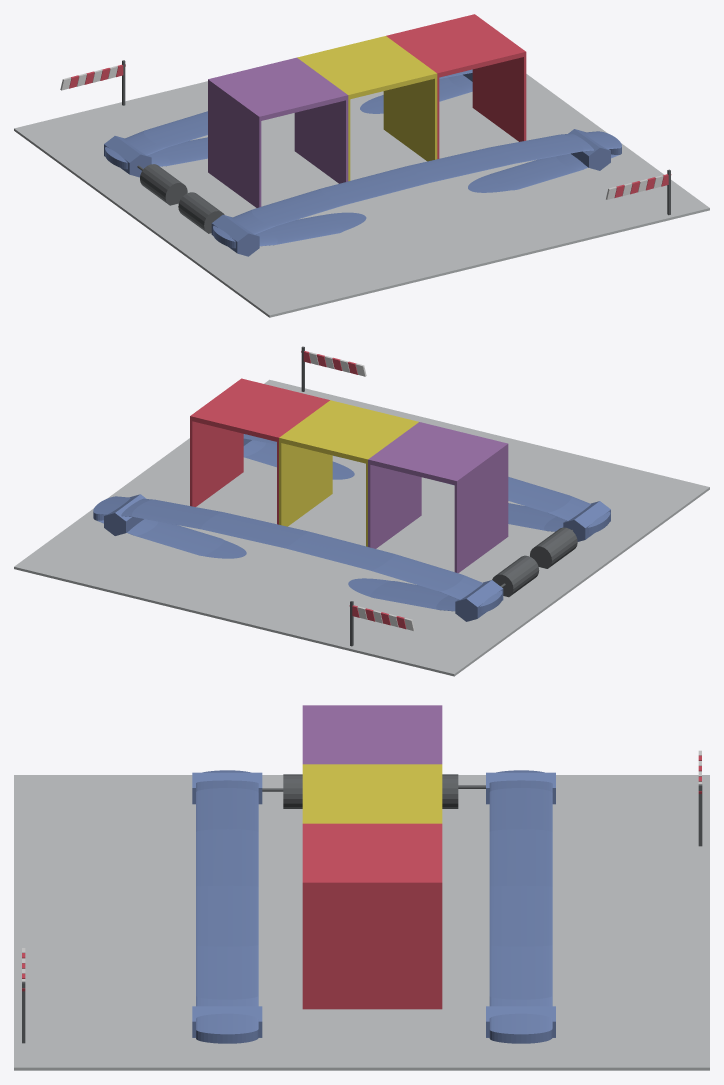
The model's file is Parking Automático.glb.
3 renders of one model, top to bottom at view 1: azimuth 30°, elevation 25°; view 2: azimuth 150°, elevation 25°; view 3: azimuth 270°, elevation 25°, orthographic. The views are drawn at different scales.
Parts seen in each view (by area): view 1: Mesh_Mesh_head_geo.001_lambert2SG.001; view 2: Mesh_Mesh_head_geo.001_lambert2SG.001; view 3: Mesh_Mesh_head_geo.001_lambert2SG.001.
Boxes of the visible parts, x1,y1,x2,y2 form: Mesh_Mesh_head_geo.001_lambert2SG.001: (14, 14, 709, 317); Mesh_Mesh_head_geo.001_lambert2SG.001: (14, 346, 709, 676); Mesh_Mesh_head_geo.001_lambert2SG.001: (14, 705, 709, 1070).
Size of the model in its own units: 198 by 43 by 199.
